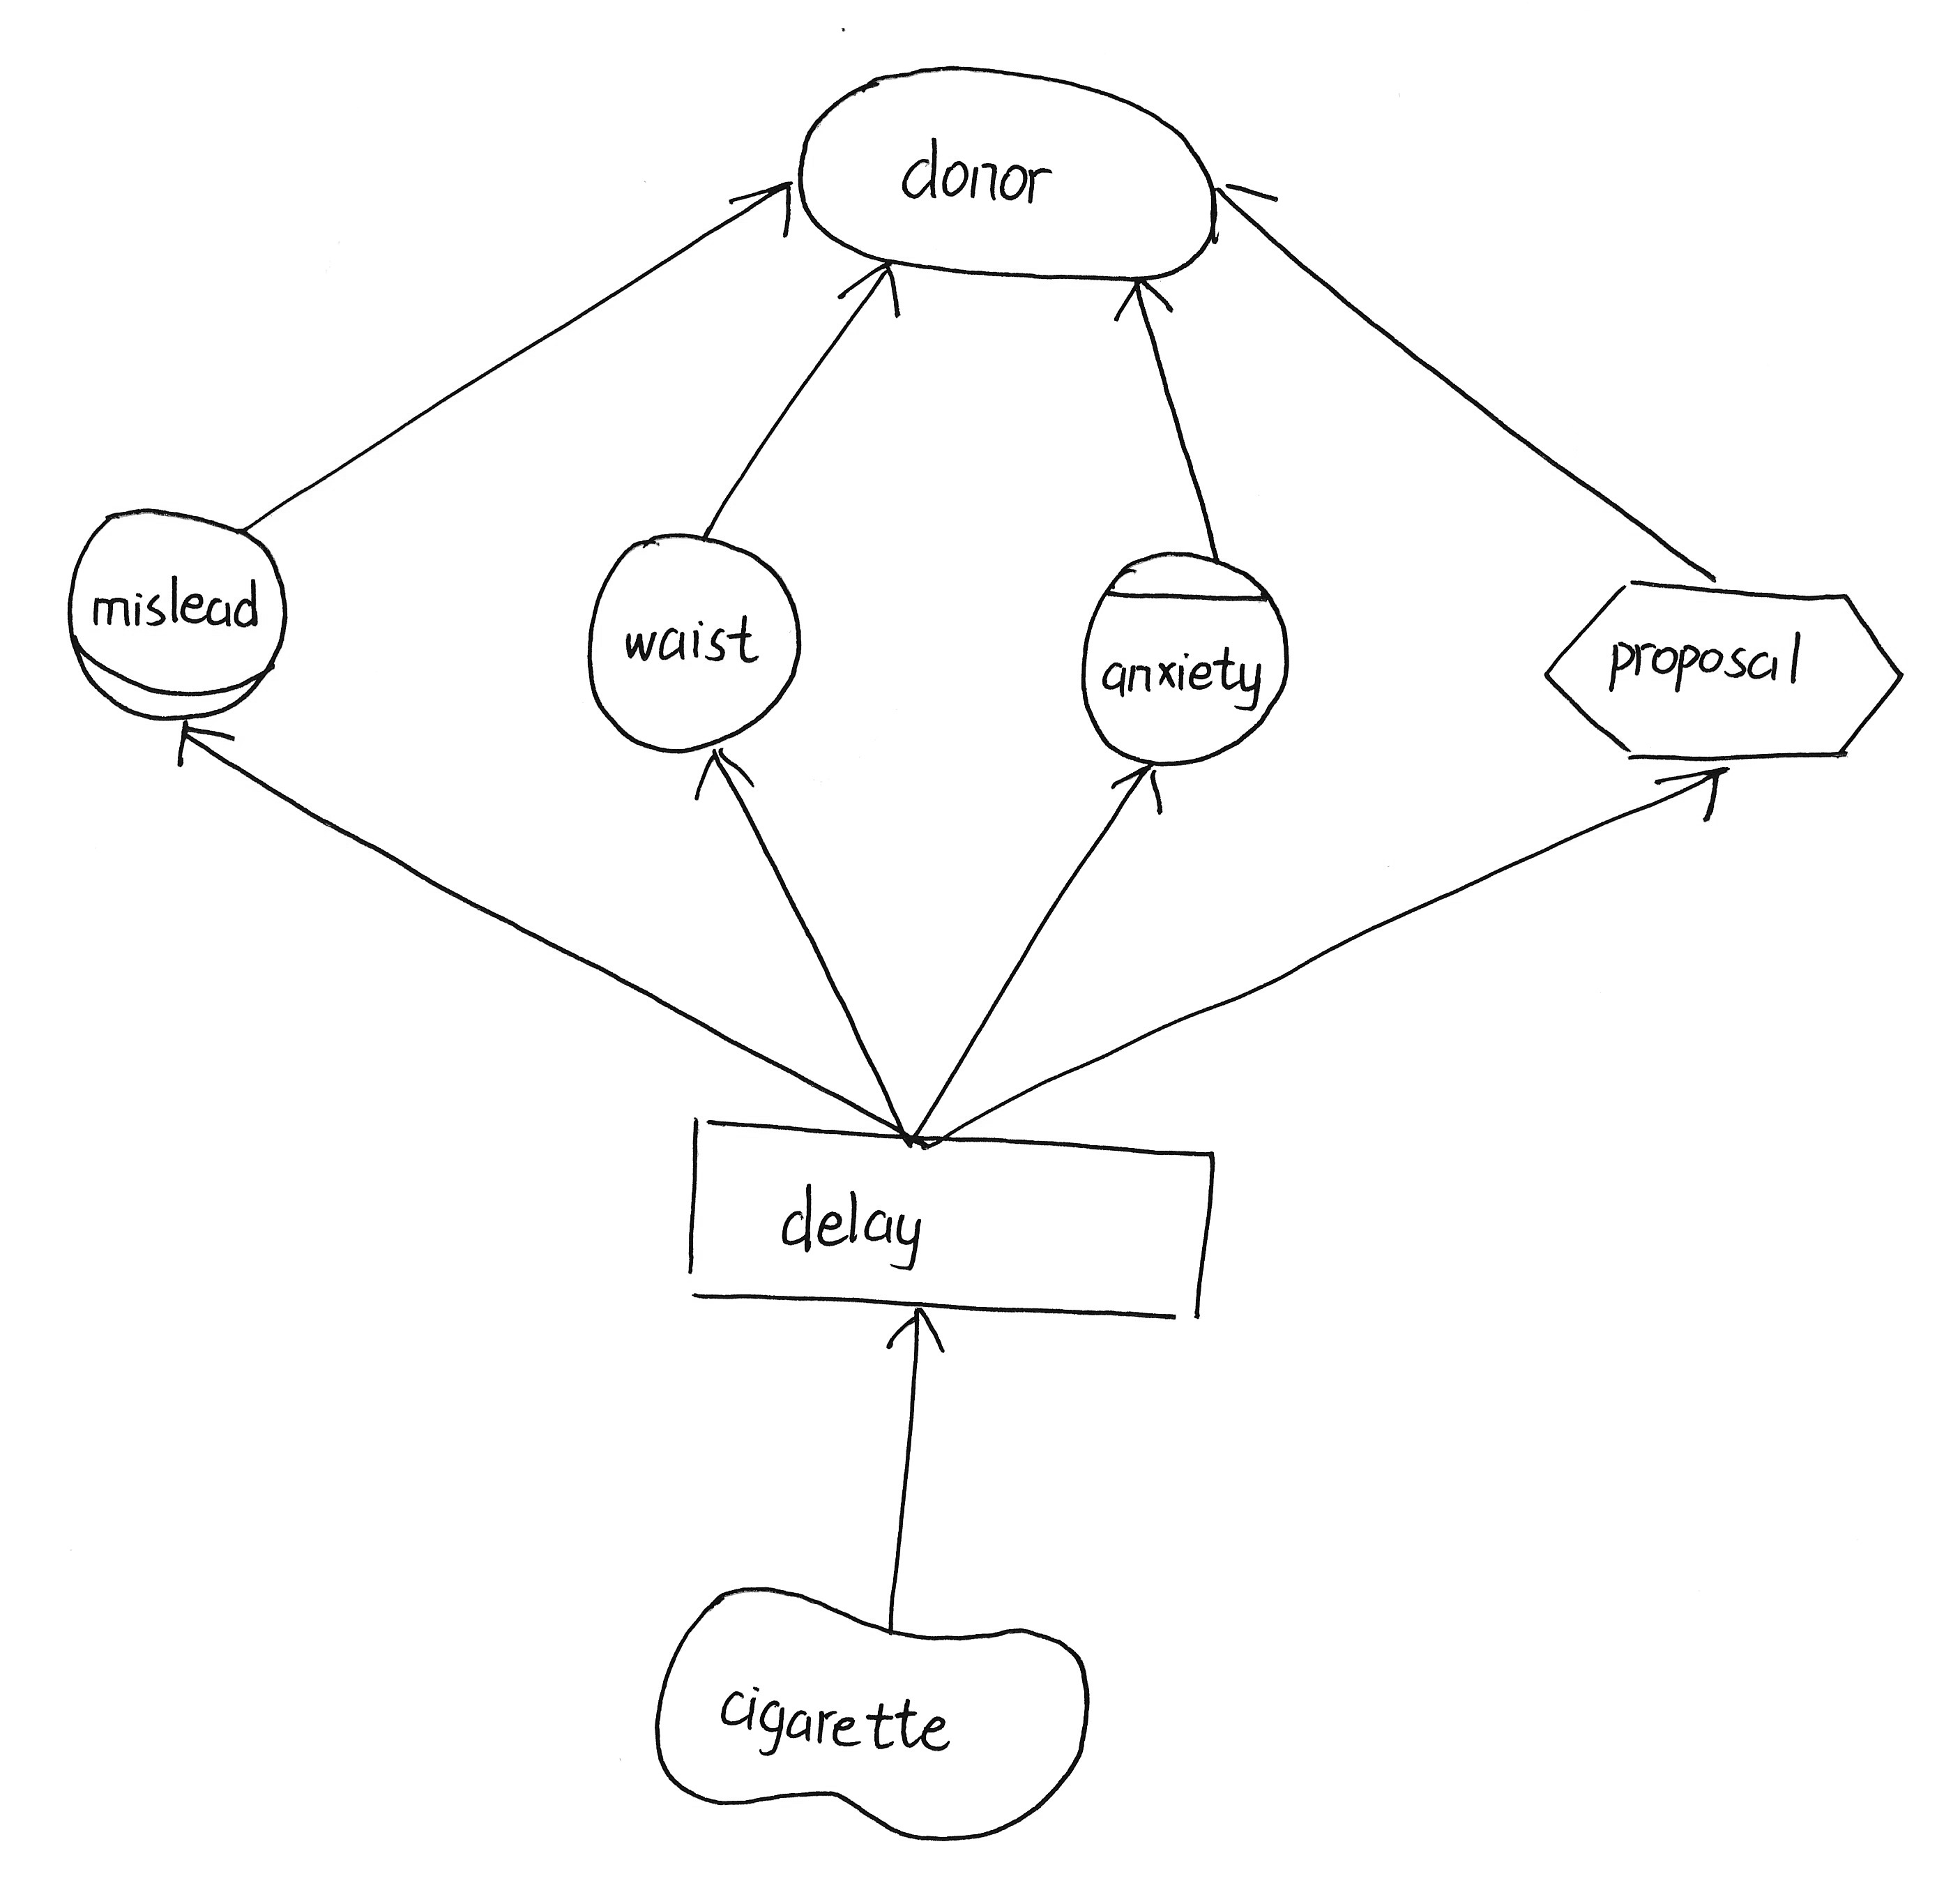actor: (570, 518, 817, 763)
agent: (1068, 532, 1299, 780)
arrow: (1195, 173, 1290, 268), (1648, 758, 1747, 842), (718, 163, 805, 250), (831, 248, 913, 332), (684, 740, 766, 817), (1092, 269, 1186, 332), (1096, 753, 1181, 821), (873, 1300, 959, 1367), (163, 709, 250, 772)
goal: (779, 51, 1235, 297)
quality: (637, 1566, 1110, 1857)
resource: (663, 1095, 1234, 1335)
role: (46, 492, 296, 739)
task: (1524, 558, 1937, 786)
